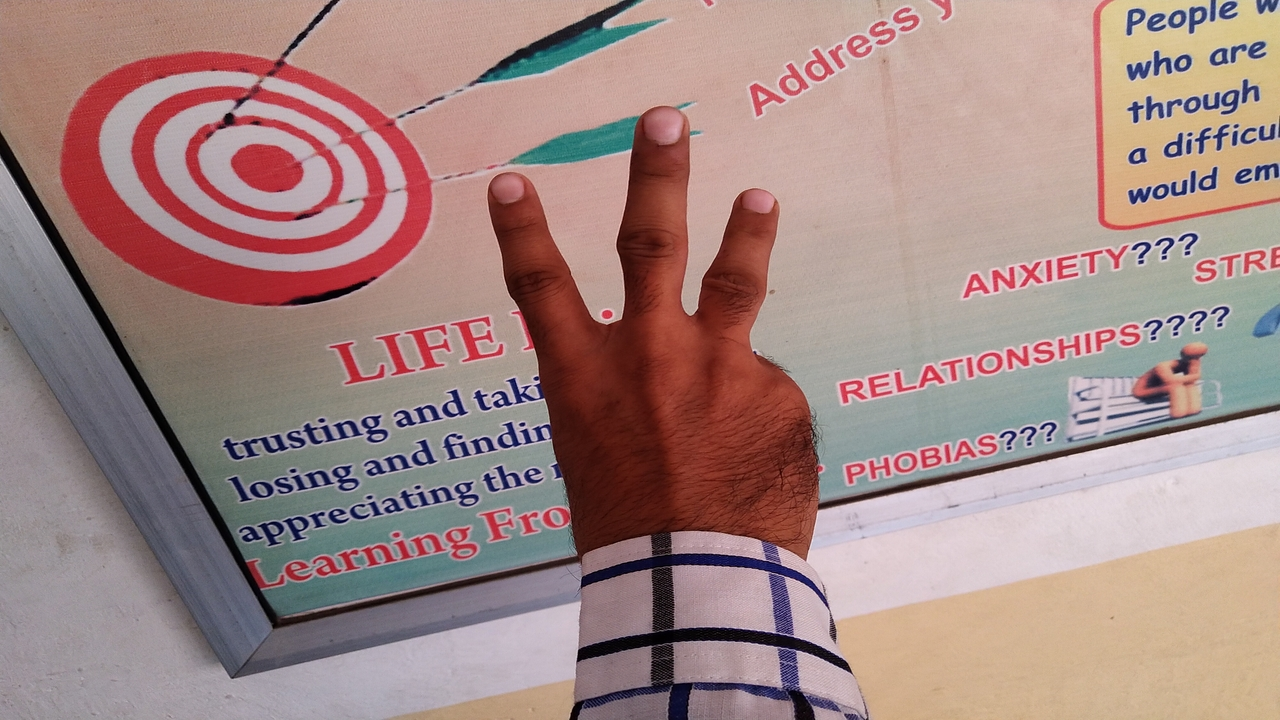fingertip: (482, 160, 544, 224), (626, 102, 692, 162), (722, 178, 784, 232)
